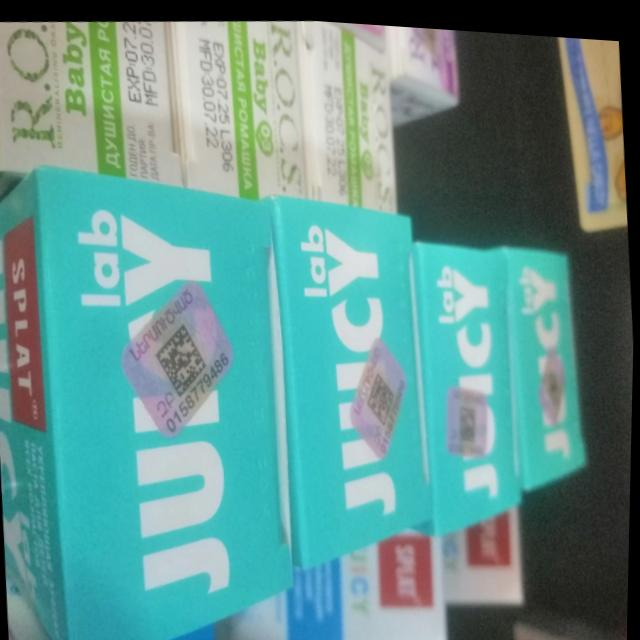datamatrix: (154, 317, 211, 400), (365, 366, 400, 425)
